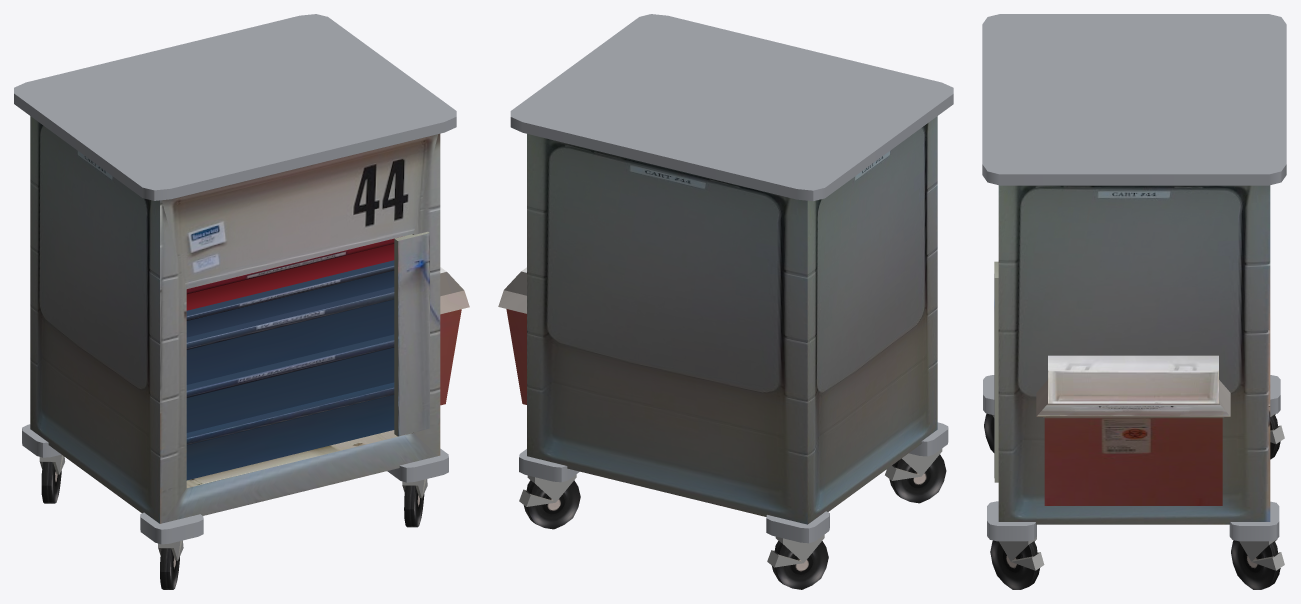
The model's file is supply_cart_2.fbx.
3 renders of one model, left to right at view 1: azimuth 30°, elevation 25°; view 2: azimuth 150°, elevation 25°; view 3: azimuth 270°, elevation 25°, orthographic. The views are drawn at different scales.
Visible parts, largest first — view 1: supply_cabinet, pCube4, pCube3, pCube5, door, pCube2, pCube6, trash_can, Wheel_Cube1, Wheel_Cube3, wheel_2, wheel_1 (+2 smaller); view 2: supply_cabinet, wheel_4, wheel_2, wheel_1, trash_can, Wheel_Cube2, Wheel_Cube4, Wheel_Cube1; view 3: supply_cabinet, trash_can, wheel_3, wheel_4, Wheel_Cube3, Wheel_Cube4, door, Wheel_Cube1, wheel_2, Wheel_Cube2.
Part boxes in pixels (box(x1,y1,x2,y2)): supply_cabinet: box(14, 14, 456, 523); pCube4: box(186, 334, 394, 432); pCube3: box(186, 287, 394, 384); pCube5: box(186, 382, 394, 480); door: box(394, 231, 429, 436); pCube2: box(186, 260, 394, 337); pCube6: box(186, 238, 394, 310); trash_can: box(440, 267, 469, 405); Wheel_Cube1: box(140, 512, 203, 544); Wheel_Cube3: box(387, 448, 448, 482); wheel_2: box(39, 454, 64, 503); wheel_1: box(158, 540, 183, 589); supply_cabinet: box(510, 14, 953, 524); wheel_4: box(519, 474, 580, 529); wheel_2: box(767, 534, 828, 589); wheel_1: box(885, 448, 946, 503); trash_can: box(498, 267, 526, 404); Wheel_Cube2: box(766, 511, 829, 543); Wheel_Cube4: box(519, 449, 579, 482); Wheel_Cube1: box(909, 422, 948, 456); supply_cabinet: box(982, 14, 1286, 524); trash_can: box(1036, 355, 1230, 505); wheel_3: box(990, 537, 1044, 589); wheel_4: box(1231, 539, 1284, 589); Wheel_Cube3: box(987, 501, 1036, 541); Wheel_Cube4: box(1229, 501, 1279, 541); door: box(994, 261, 998, 482); Wheel_Cube1: box(983, 375, 994, 414); wheel_2: box(1270, 414, 1284, 459); Wheel_Cube2: box(1270, 375, 1280, 414).
Bounding box in the file's own units: 3.31 × 3.78 × 2.41.
6 materials, 3 textured.
